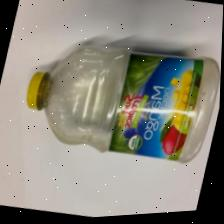plastic: (32, 45, 222, 165)
